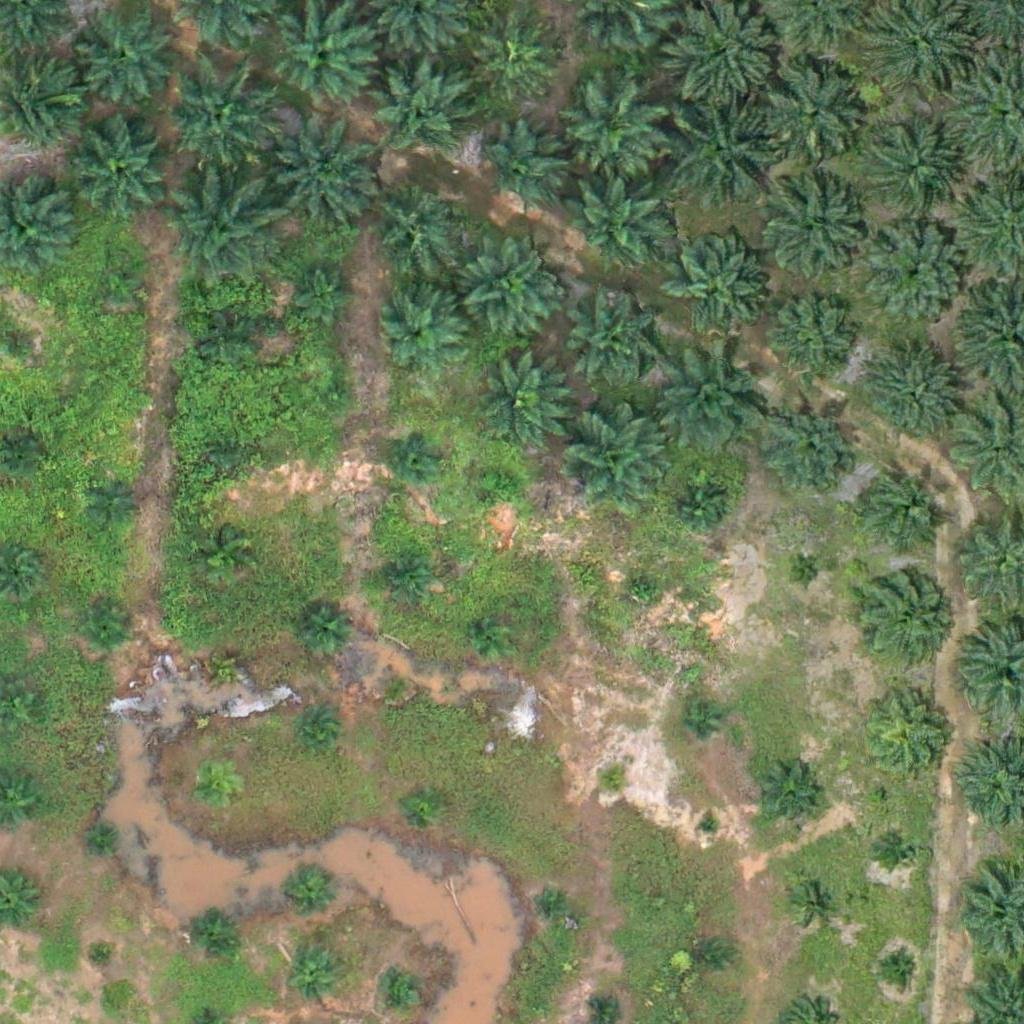Kelapa_Sawit: (267, 119, 380, 232), (667, 98, 780, 211), (658, 347, 771, 460), (166, 63, 278, 176), (162, 171, 274, 284), (565, 171, 665, 272), (460, 240, 560, 341), (371, 58, 471, 159), (364, 177, 464, 278), (272, 4, 372, 105), (70, 120, 170, 221), (77, 8, 177, 109), (666, 238, 766, 339), (763, 186, 863, 287), (761, 65, 861, 166), (867, 224, 967, 325), (863, 349, 963, 450), (852, 458, 952, 559), (854, 564, 954, 665), (859, 685, 959, 786), (565, 412, 665, 513), (561, 81, 661, 181), (468, 352, 568, 452), (480, 125, 568, 213), (473, 17, 561, 105), (567, 295, 655, 383), (870, 129, 958, 217), (378, 292, 465, 381), (767, 403, 854, 492), (766, 296, 853, 384), (754, 766, 817, 829), (294, 260, 356, 323), (198, 529, 248, 580), (295, 609, 345, 660), (190, 766, 240, 817), (285, 867, 335, 918), (673, 480, 723, 531), (91, 475, 141, 526), (203, 638, 253, 689), (183, 906, 233, 956), (290, 951, 340, 1001), (94, 259, 144, 309), (205, 318, 255, 368), (379, 554, 429, 604), (392, 431, 442, 481), (690, 938, 728, 976), (84, 819, 122, 857), (482, 466, 520, 504), (473, 617, 511, 655), (625, 573, 663, 611), (787, 554, 825, 592), (593, 763, 631, 801), (884, 832, 922, 870), (88, 606, 126, 643), (383, 975, 420, 1013), (878, 949, 915, 987), (796, 882, 833, 920), (211, 433, 248, 471), (316, 378, 353, 416), (677, 702, 714, 740), (374, 663, 411, 701), (85, 933, 122, 971), (300, 713, 337, 750), (405, 786, 442, 823), (536, 884, 573, 921), (696, 812, 721, 837)
